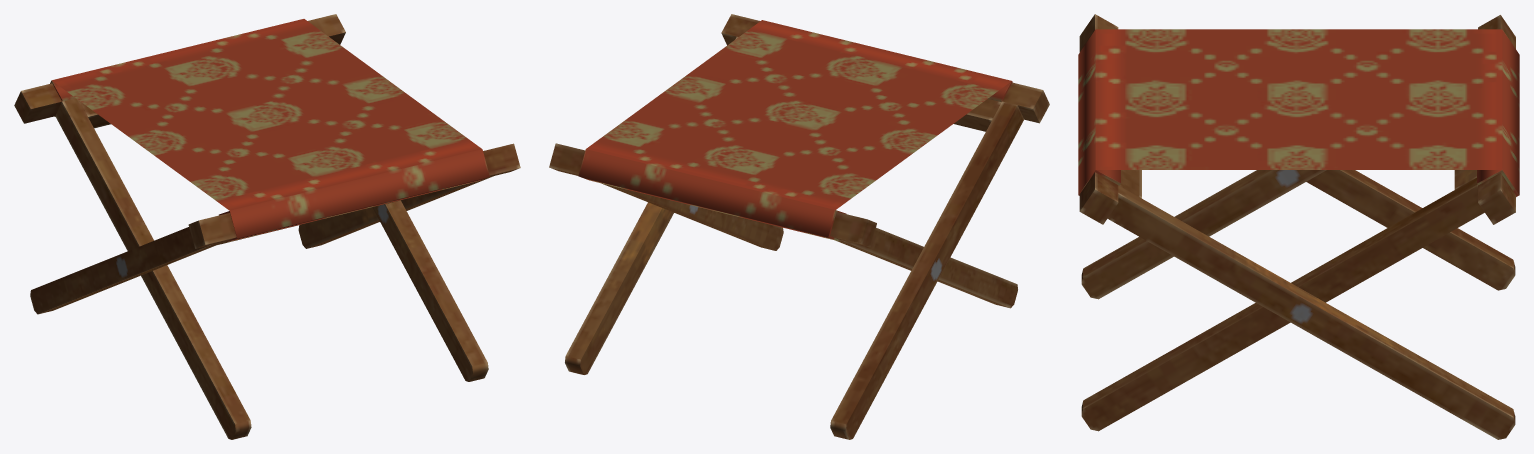
File: pi_chair01_dlc1_01_01.gltf
3 views of the same model, side by side, from view 1: azimuth 30°, elevation 25°; view 2: azimuth 150°, elevation 25°; view 3: azimuth 270°, elevation 25° (orthographic). The views are drawn at different scales.
Parts seen in each view (by area): view 1: pi_chair01_dlc1_01_01_mesh_shape:pi_chair01_dlc1_01_main; view 2: pi_chair01_dlc1_01_01_mesh_shape:pi_chair01_dlc1_01_main; view 3: pi_chair01_dlc1_01_01_mesh_shape:pi_chair01_dlc1_01_main.
Boxes of the visible parts, <box> form: pi_chair01_dlc1_01_01_mesh_shape:pi_chair01_dlc1_01_main: <box>14,14,520,439</box>; pi_chair01_dlc1_01_01_mesh_shape:pi_chair01_dlc1_01_main: <box>549,14,1049,439</box>; pi_chair01_dlc1_01_01_mesh_shape:pi_chair01_dlc1_01_main: <box>1078,14,1519,439</box>.
Size of what is drawn, in the model's own units: 0.4989 by 0.3463 by 0.53.
1 material, 1 textured.
